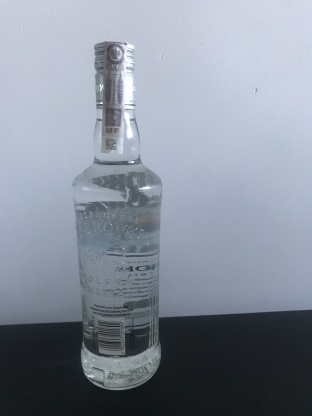nakretka: (90, 37, 139, 112)
